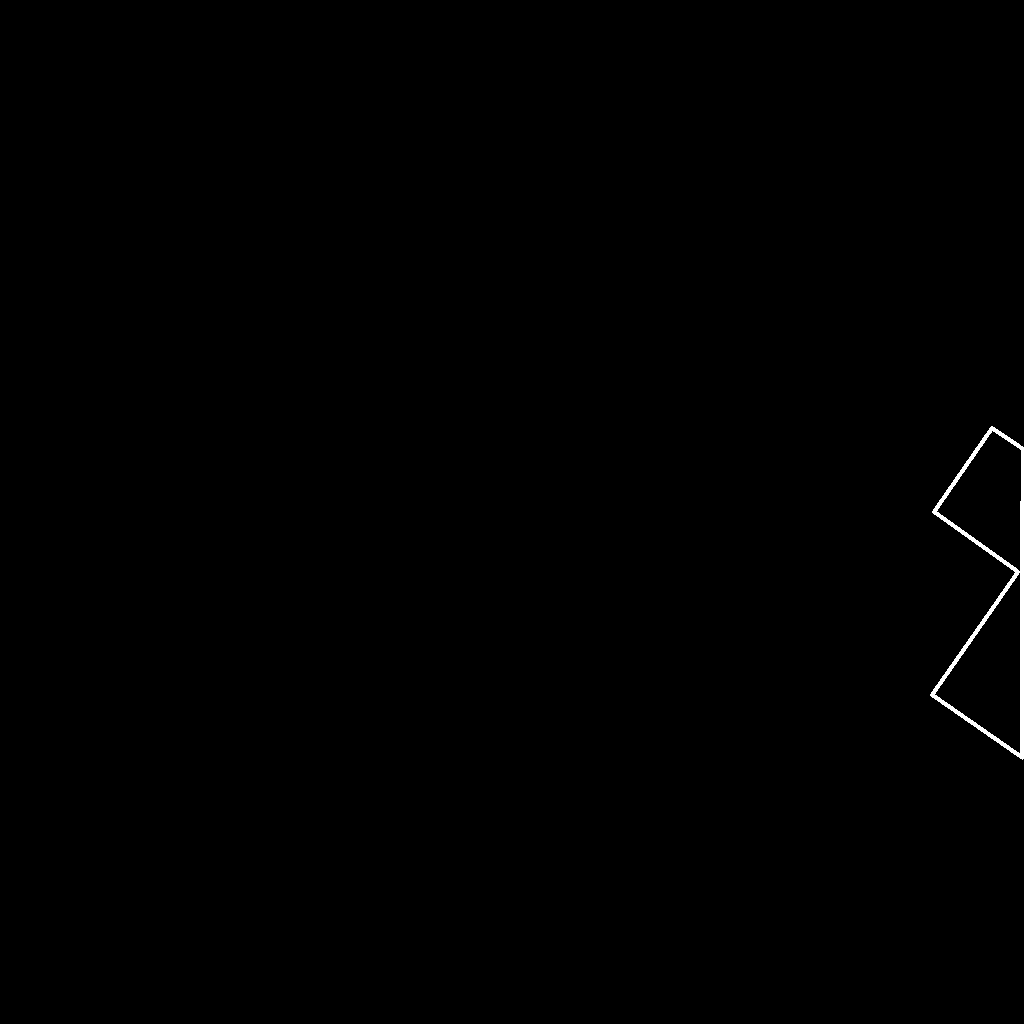building: (932, 428, 1024, 759)
